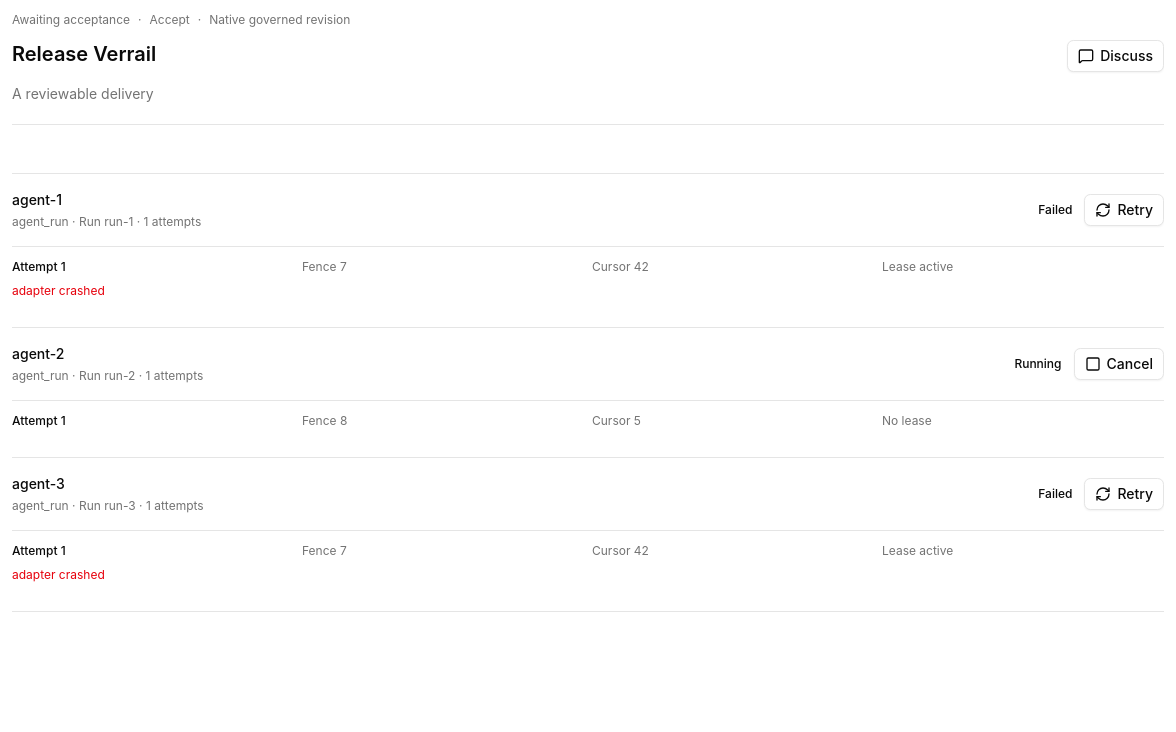
Test: TargetWorkbench › disables only the pending run's retry and surfaces the server failure code
Click the button "Retry" in the row of "Run run-1". click: point(1124, 210)
box: x1=1084 y1=194 x2=1164 y2=226
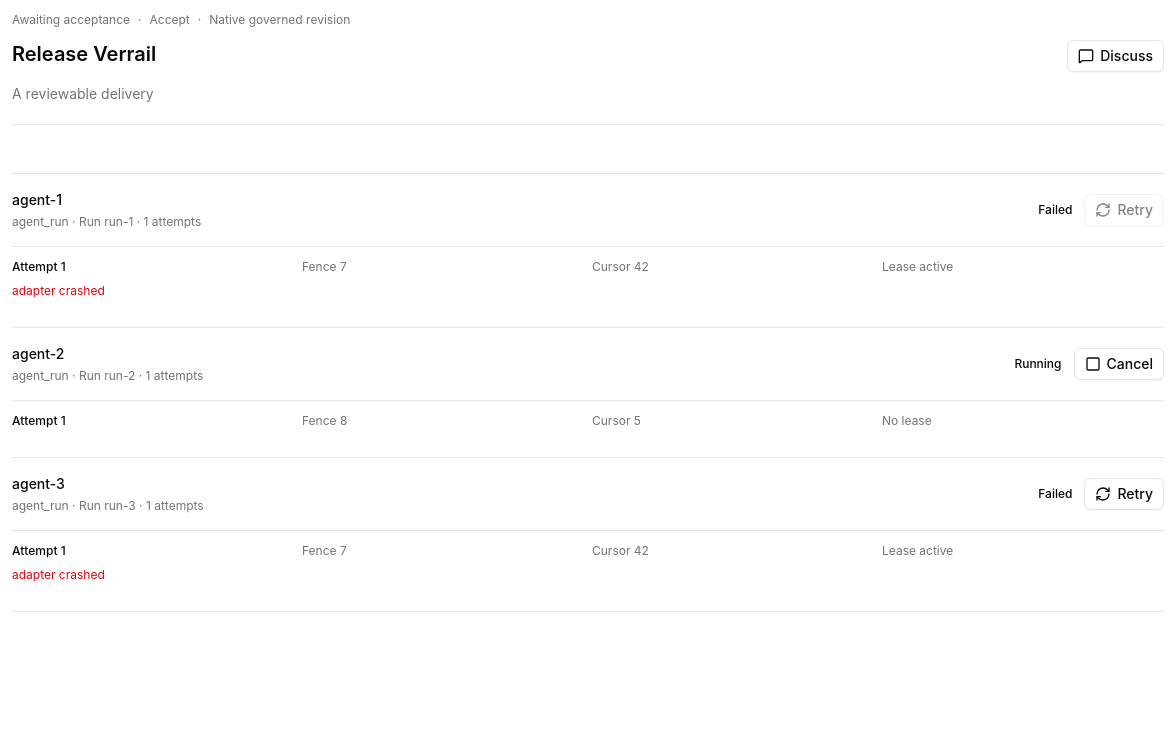
expect the button "Retry" in the row of "Run run-1" is disabled: met, box x1=1084 y1=194 x2=1164 y2=226
Click the button "Retry" in the row of "Run run-3". click: point(1124, 494)
box: x1=1084 y1=478 x2=1164 y2=510
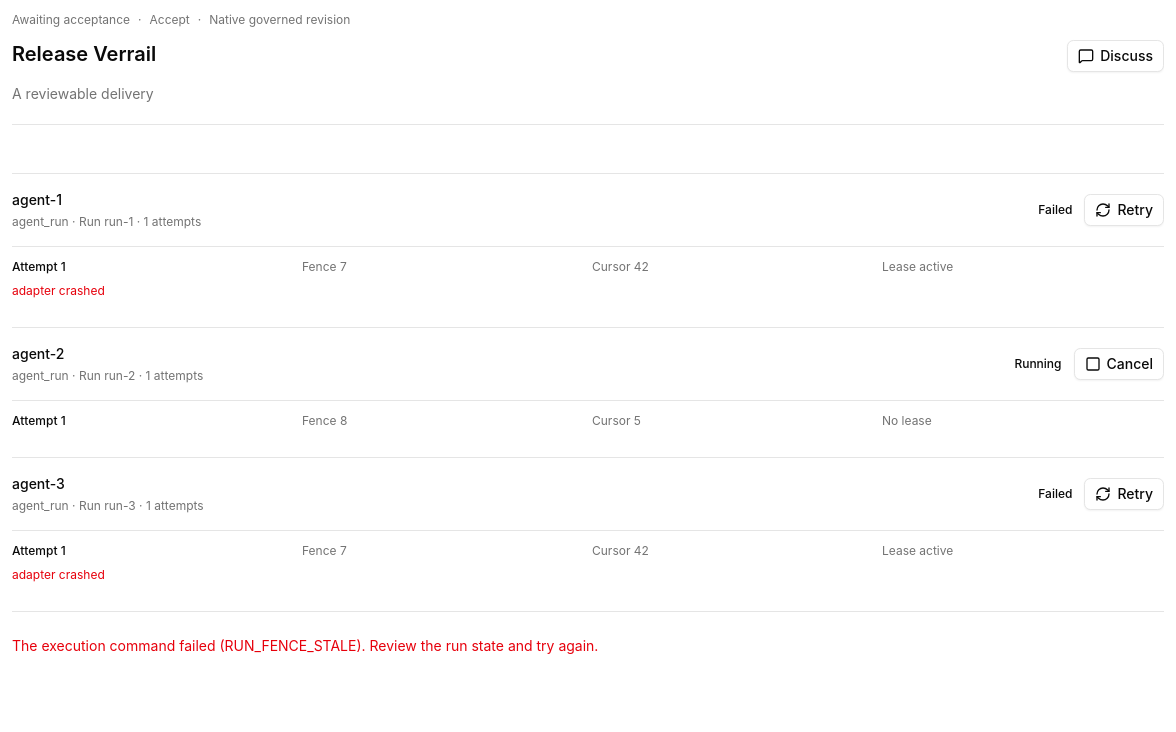
expect the text "RUN_FENCE_STALE" is shown: met, box x1=12 y1=637 x2=598 y2=654
expect the text "Review the run state" is shown: met, box x1=12 y1=637 x2=598 y2=654
